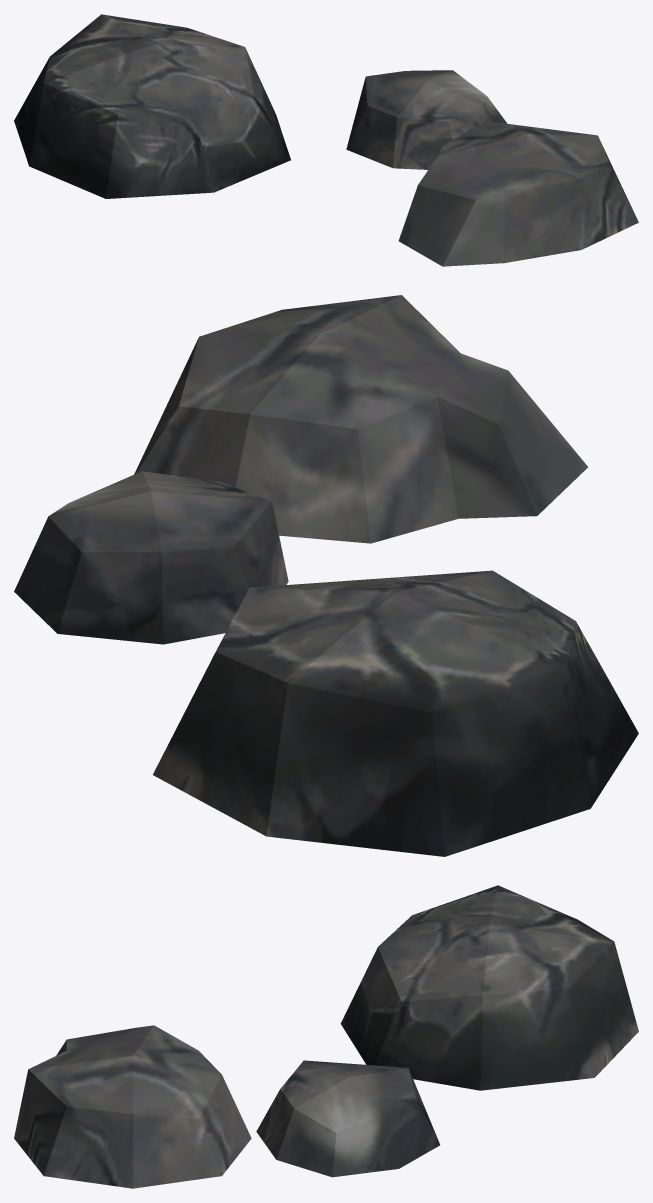
Rendered from a_wujian_shitou.fbx.
3 views of the same model, one above another, from view 1: azimuth 30°, elevation 25°; view 2: azimuth 150°, elevation 25°; view 3: azimuth 270°, elevation 25° (orthographic). The views are drawn at different scales.
Visible parts, largest first — view 1: polySurface269, polySurface267, polySurface268; view 2: polySurface269, polySurface267, polySurface268; view 3: polySurface269, polySurface267, polySurface268.
Boxes of the visible parts, <box> form: polySurface269: <box>14,14,290,198</box>; polySurface267: <box>398,121,638,266</box>; polySurface268: <box>346,70,506,169</box>; polySurface269: <box>153,570,638,856</box>; polySurface267: <box>134,295,587,543</box>; polySurface268: <box>14,471,288,644</box>; polySurface269: <box>340,885,638,1090</box>; polySurface267: <box>14,1025,251,1188</box>; polySurface268: <box>256,1060,439,1177</box>.
Size of the model in its own units: 2.23 by 0.4802 by 2.63.
